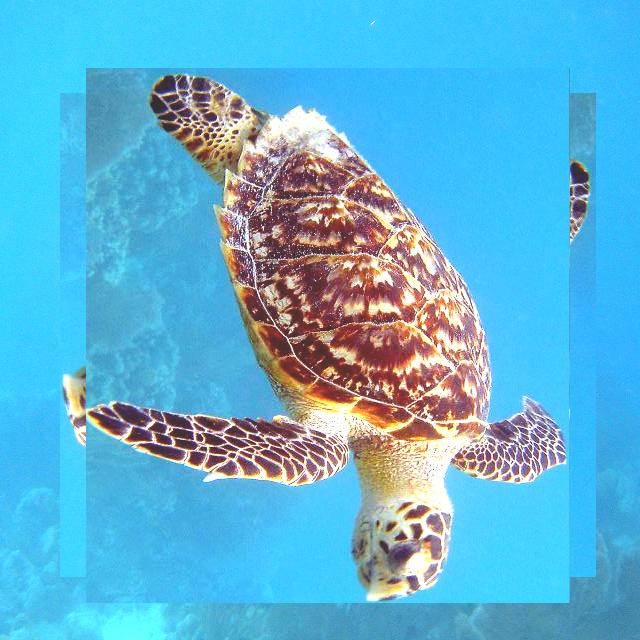Sea turtle: (73, 80, 583, 590)
